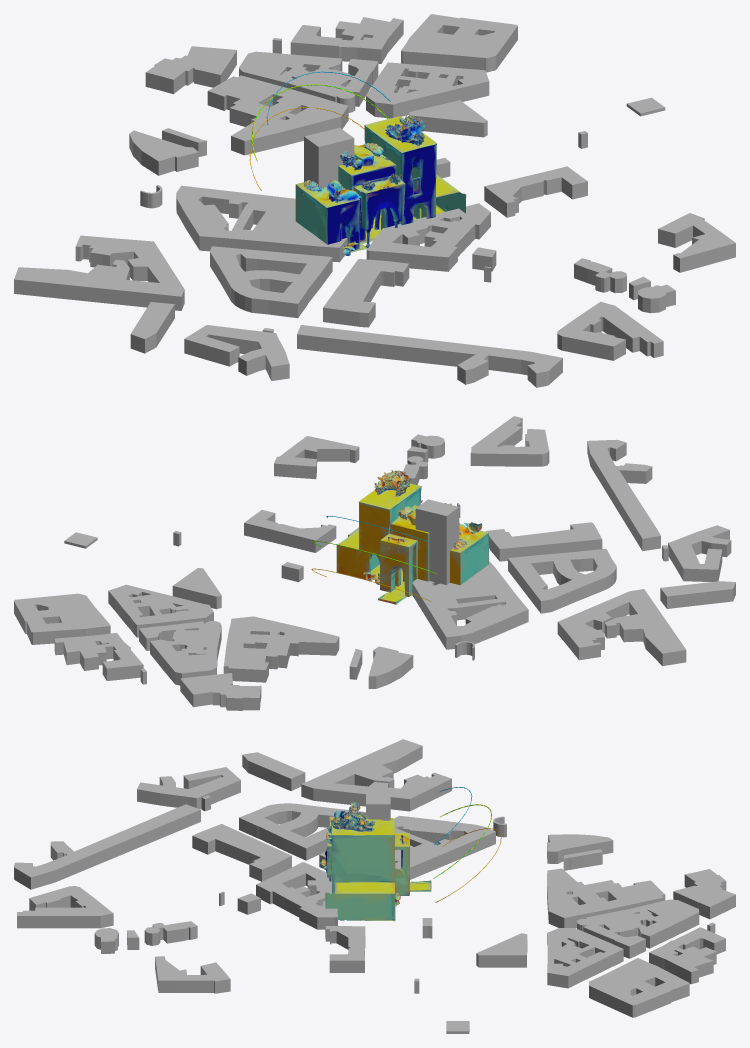
File: solar_radiation.glb
3 views of the same model, one above another, from view 1: azimuth 30°, elevation 25°; view 2: azimuth 150°, elevation 25°; view 3: azimuth 270°, elevation 25° (orthographic). The views are drawn at different scales.
Visible parts, largest first — view 1: world; view 2: world; view 3: world.
Part boxes in pixels (x1,y1,x2,y2): world: (14, 14, 735, 387); world: (14, 416, 735, 710); world: (14, 739, 735, 1033).
Bounding box in the file's own units: 4908 × 760 × 5304.
